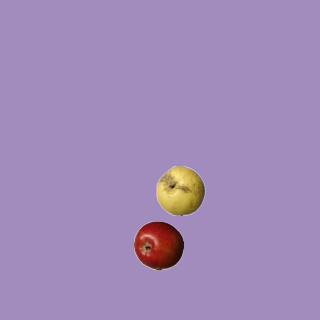Apple Braeburn: (133, 220, 183, 270)
Apple Golden 1: (155, 165, 205, 215)
